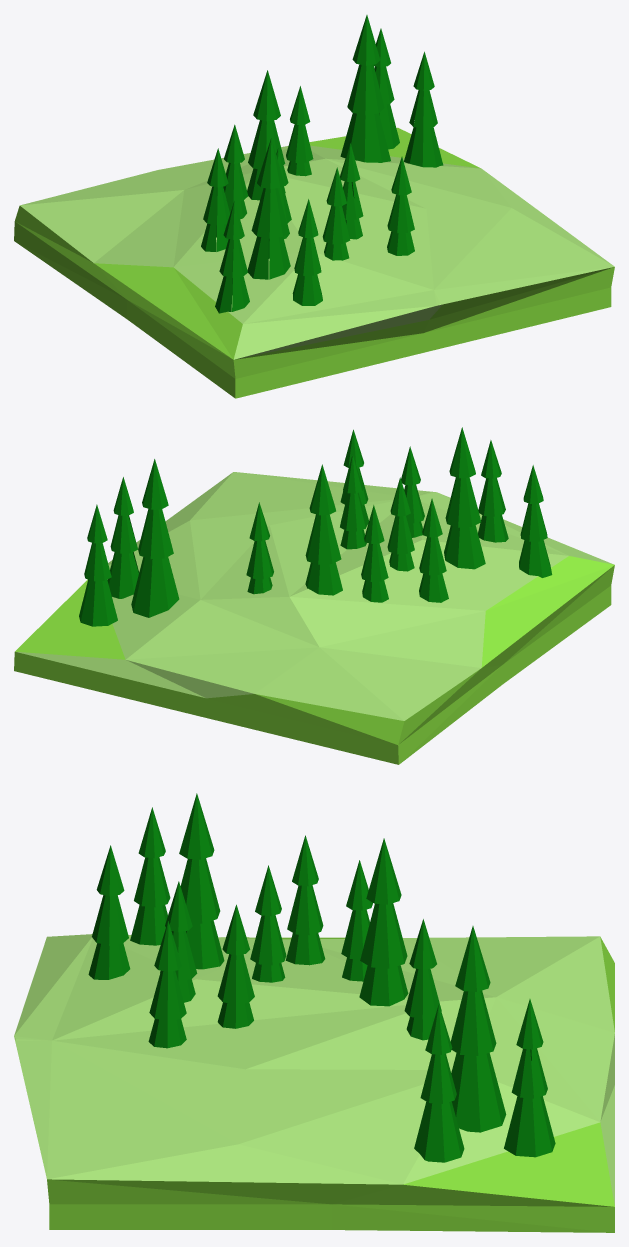
The model's file is building_forest.fbx.
The picture shows the model from 3 angles, top to bottom: view 1: azimuth 30°, elevation 25°; view 2: azimuth 150°, elevation 25°; view 3: azimuth 270°, elevation 25°; orthographic projection. The views are drawn at different scales.
Parts seen in each view (by area): view 1: grass; view 2: grass; view 3: grass.
Part boxes in pixels (x1=…): grass: x1=14, y1=15, x2=614, y2=398; grass: x1=14, y1=427, x2=614, y2=764; grass: x1=14, y1=793, x2=614, y2=1232.
Bounding box in the file's own units: 51.6 × 25.04 × 53.13.
